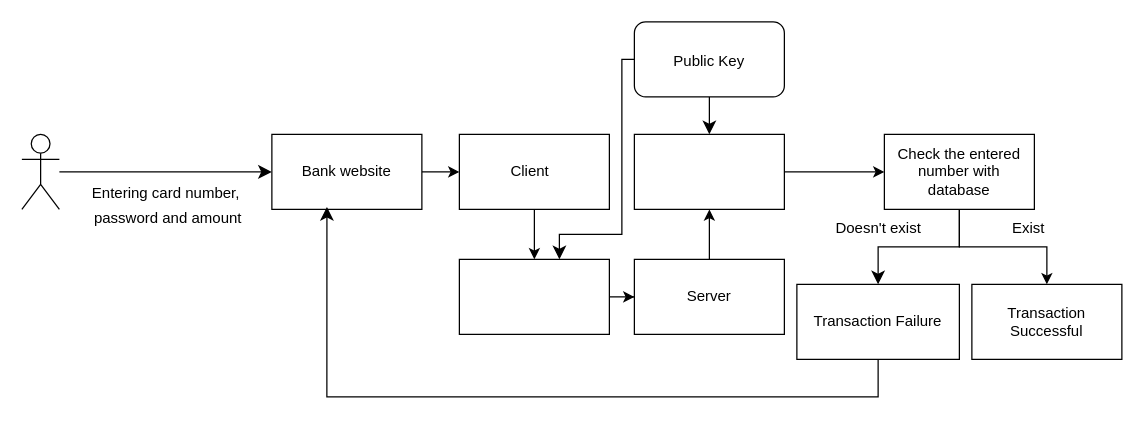
Image size: 1144x431. Some labels were removed from this diagram. The box of each missing label's shape, as (x1, y1, x2, y2) in pixels:
Actor: (21, 133, 59, 209)
Decryption: (633, 133, 784, 209)
Encryption: (458, 258, 609, 334)
